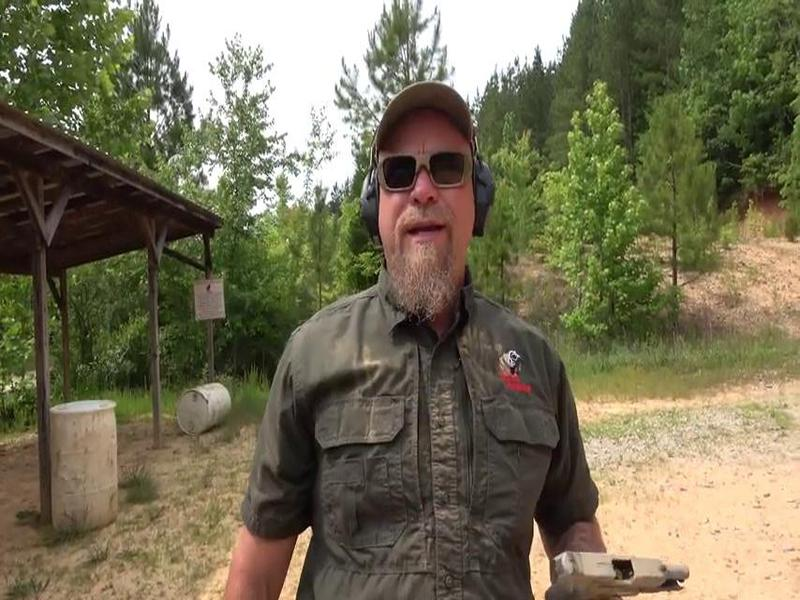Pistola: (537, 529, 695, 600)
